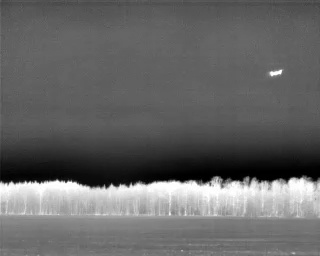DRONE: (265, 65, 286, 81)
